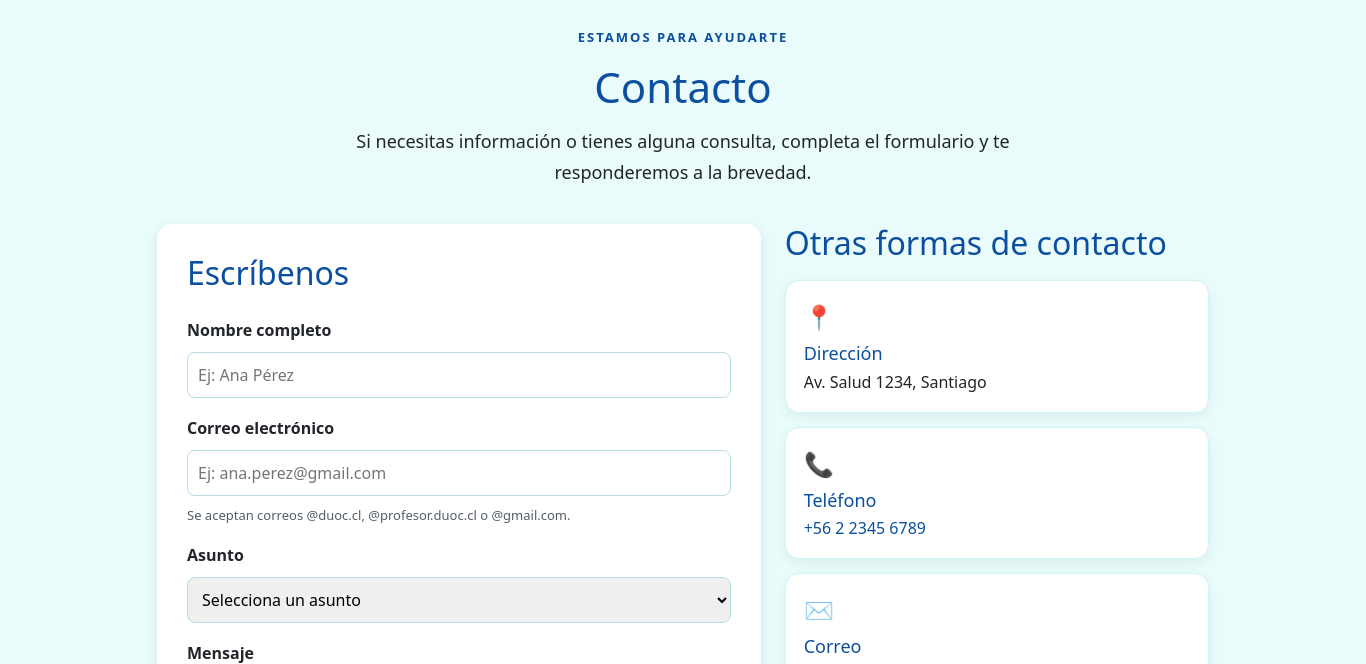
Test: Contacto › actualiza el estado del formulario y el contador de caracteres al escribir
The image size is (1366, 664).
Type "Ana Pérez" into the field labelled "Nombre completo" at (459, 375), box x1=187 y1=352 x2=731 y2=398
(page scrolled)
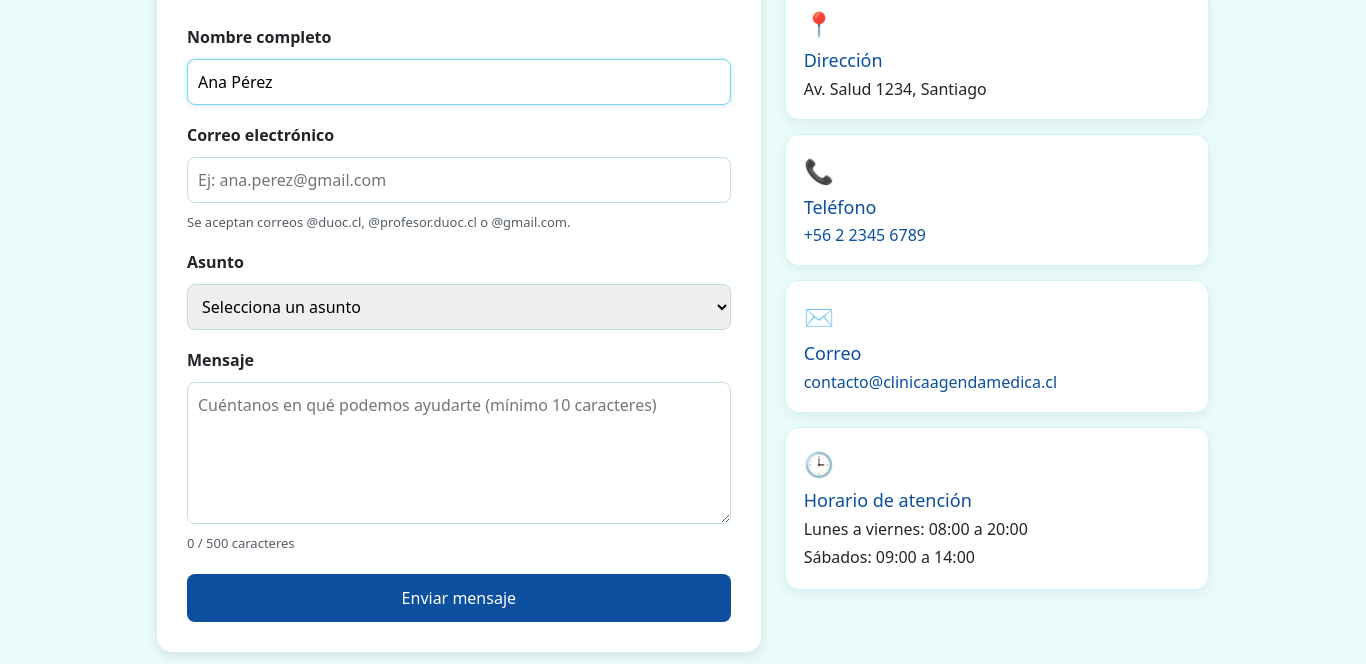
Type "Hola clínica" into the text box labelled "Mensaje" at (459, 454), box x1=187 y1=382 x2=731 y2=524
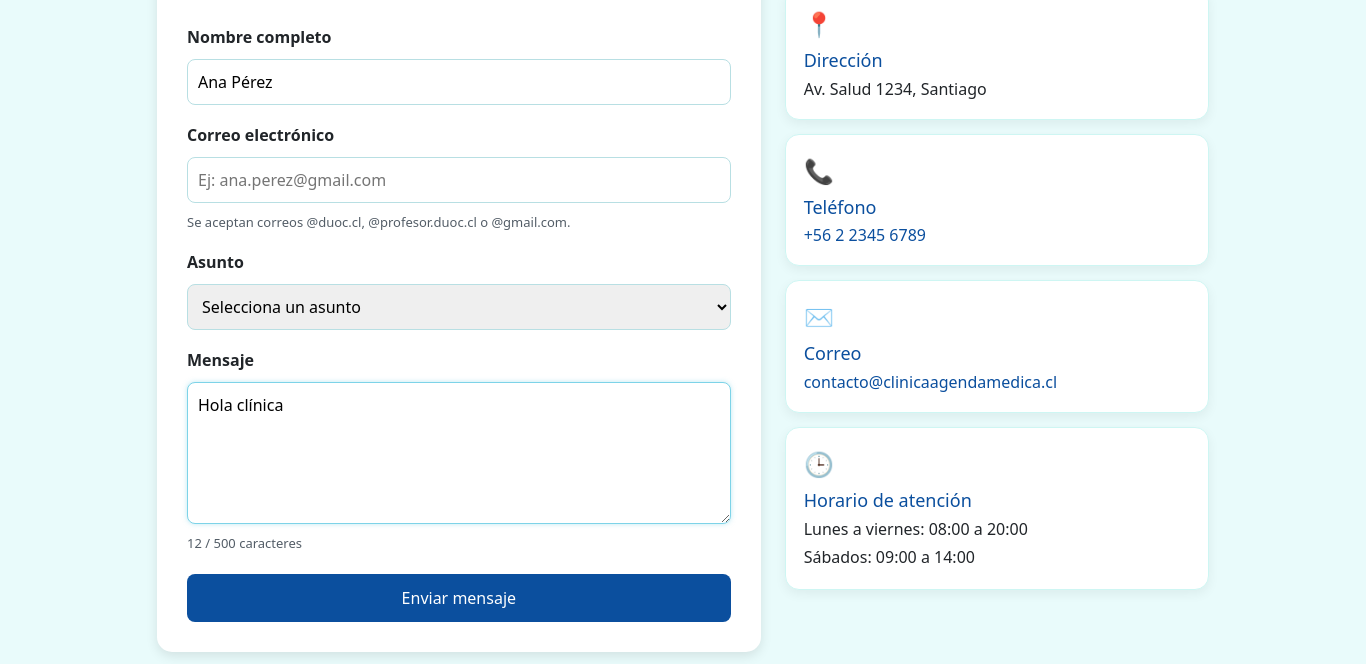
Check: the text "12 / 500 caracteres" is shown, box x1=187 y1=534 x2=302 y2=552
